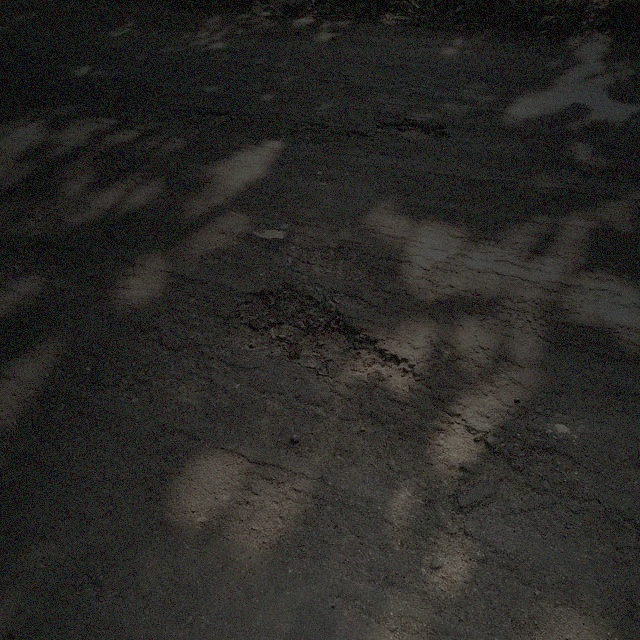pothole: (223, 284, 422, 391), (374, 115, 451, 145), (178, 106, 241, 127)
